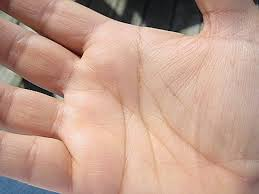palm: (76, 45, 248, 188)
